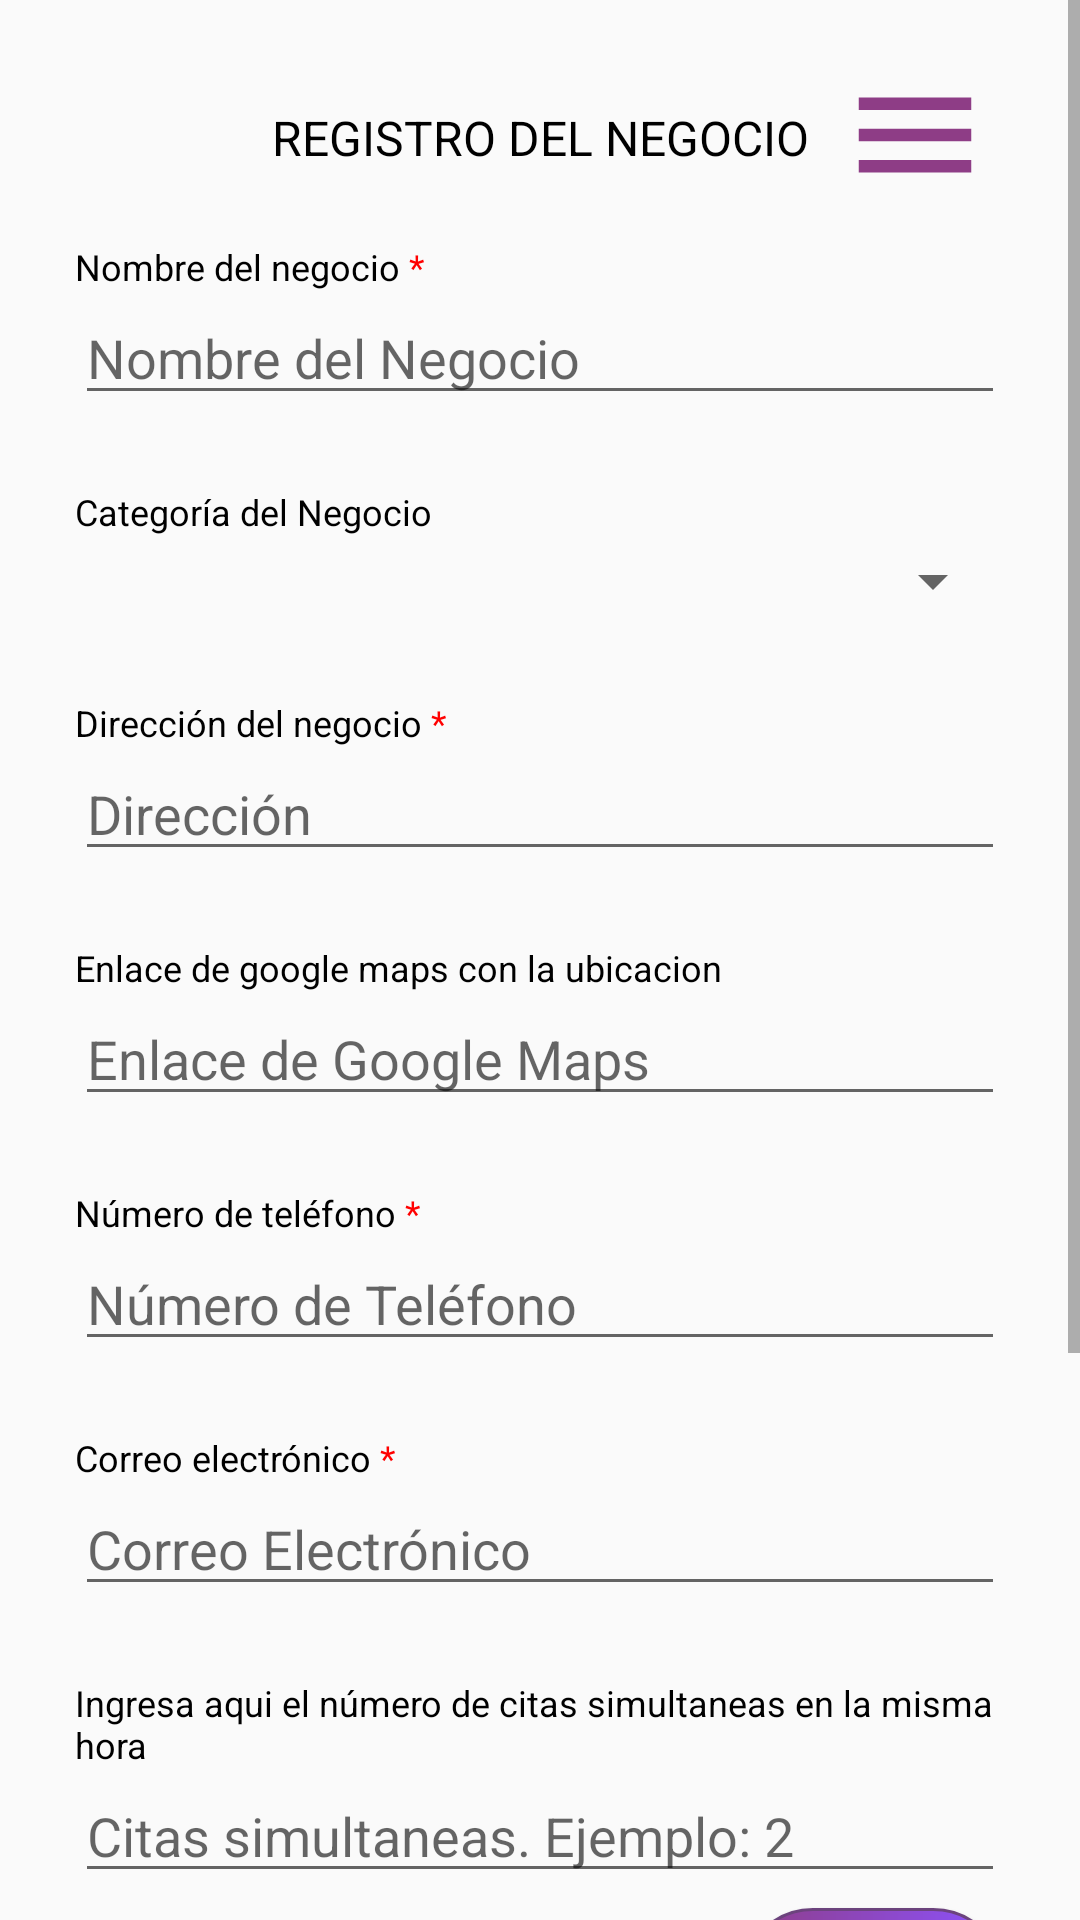

Icons on this 1080px x 1920px Android screen, each with its box as [x1, y1, x2, y2]:
Menú desplegable: [858, 97, 972, 173]
